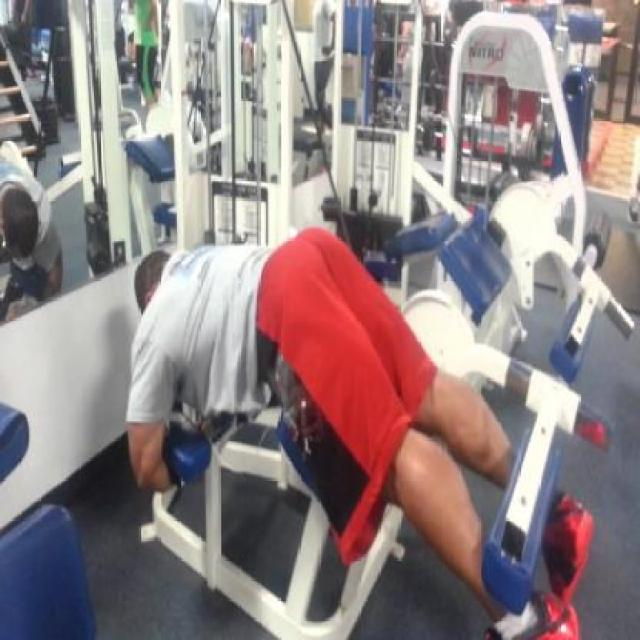reg curl machine: (134, 215, 615, 640)
